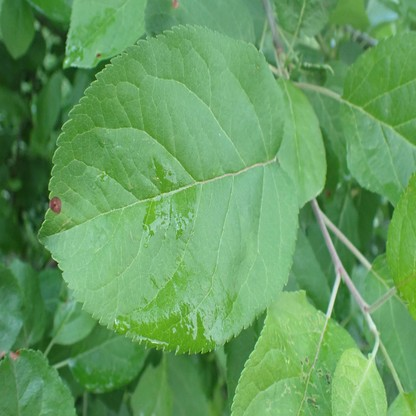frogeye_leaf_spot: (49, 196, 62, 215), (10, 350, 19, 359), (325, 189, 332, 199), (172, 1, 178, 9)
